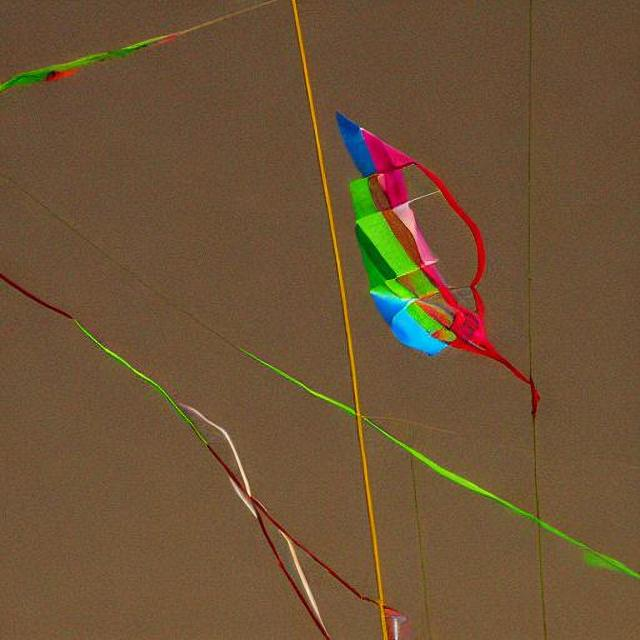floating object: (327, 106, 549, 416)
